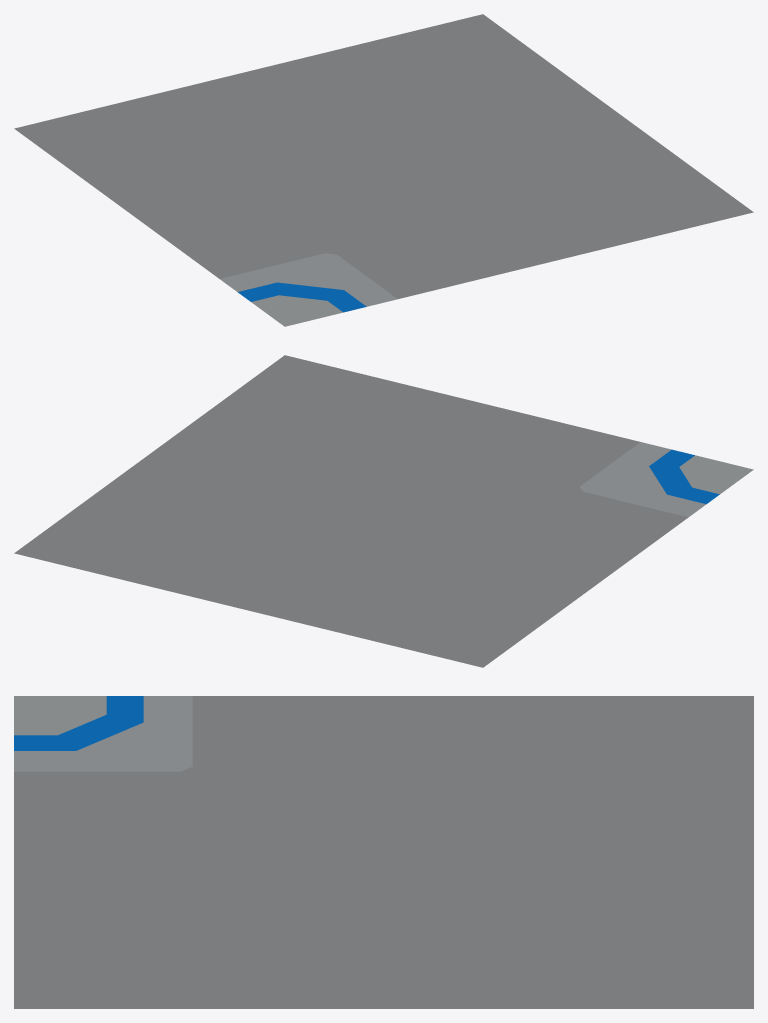
Rendered from Ceiling_type_B_008.fbx.
3 renders of one model, top to bottom at view 1: azimuth 30°, elevation 25°; view 2: azimuth 150°, elevation 25°; view 3: azimuth 270°, elevation 25°, orthographic. The views are drawn at different scales.
Parts seen in each view (by area): view 1: Ceiling_type_B_008; view 2: Ceiling_type_B_008; view 3: Ceiling_type_B_008.
Boxes of the visible parts, x1,y1,x2,y2 form: Ceiling_type_B_008: [14, 14, 753, 326]; Ceiling_type_B_008: [14, 355, 753, 667]; Ceiling_type_B_008: [14, 696, 753, 1008].
Bounding box in the file's own units: 400 × 400 × 4.55.
